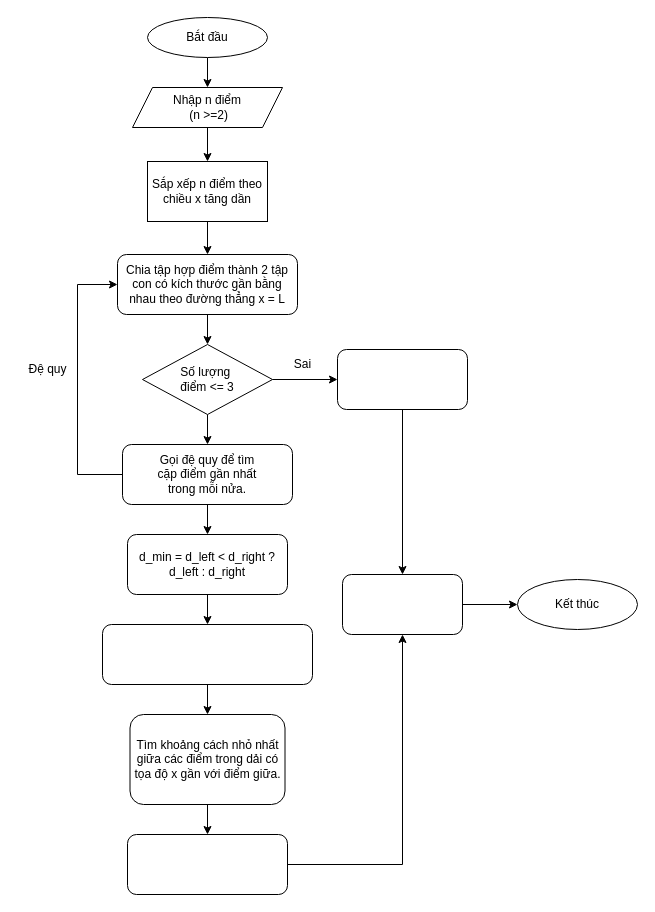
The diagram is 655 pixels wide and 912 high, and some of its shapes have lost their labels. Here are the shapes that lost their labels. From the top down, the centre of each, then its label:
At (x=402, y=379): "Gọi hàm brute force để tìm khoảng cách nhỏ nhất giữa các điểm.".
At (x=402, y=604): "Xuất ra kết quả".
At (x=207, y=654): "Xây dựng dải S các đường phân chia: dải có độ dài 2d_min và trục x = L".
At (x=207, y=864): "d = min (d_min, d_S)".
